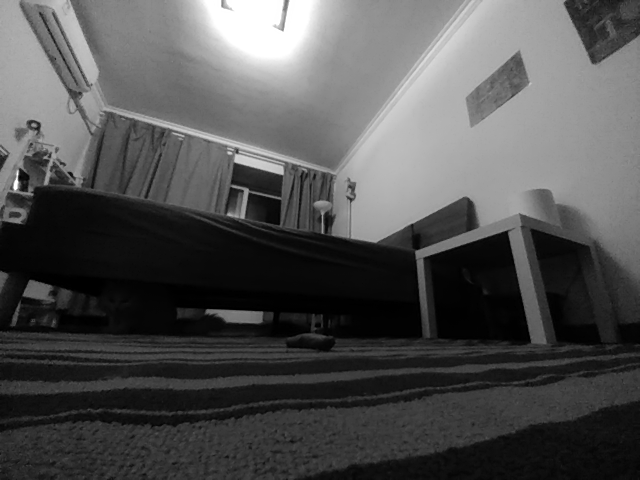pet feces: (285, 332, 336, 355)
